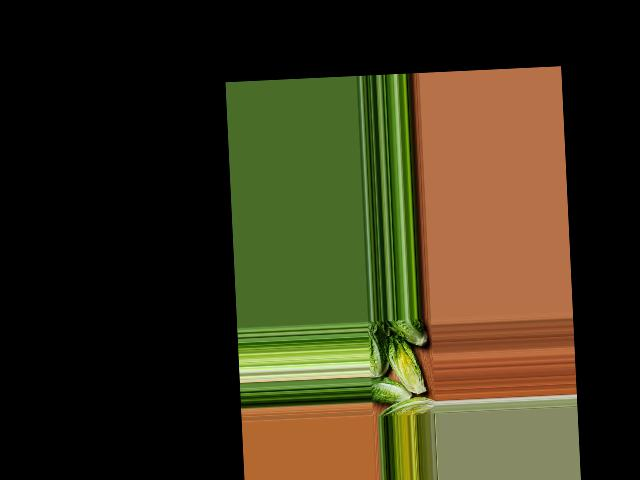lettuce: (378, 394, 434, 417)
